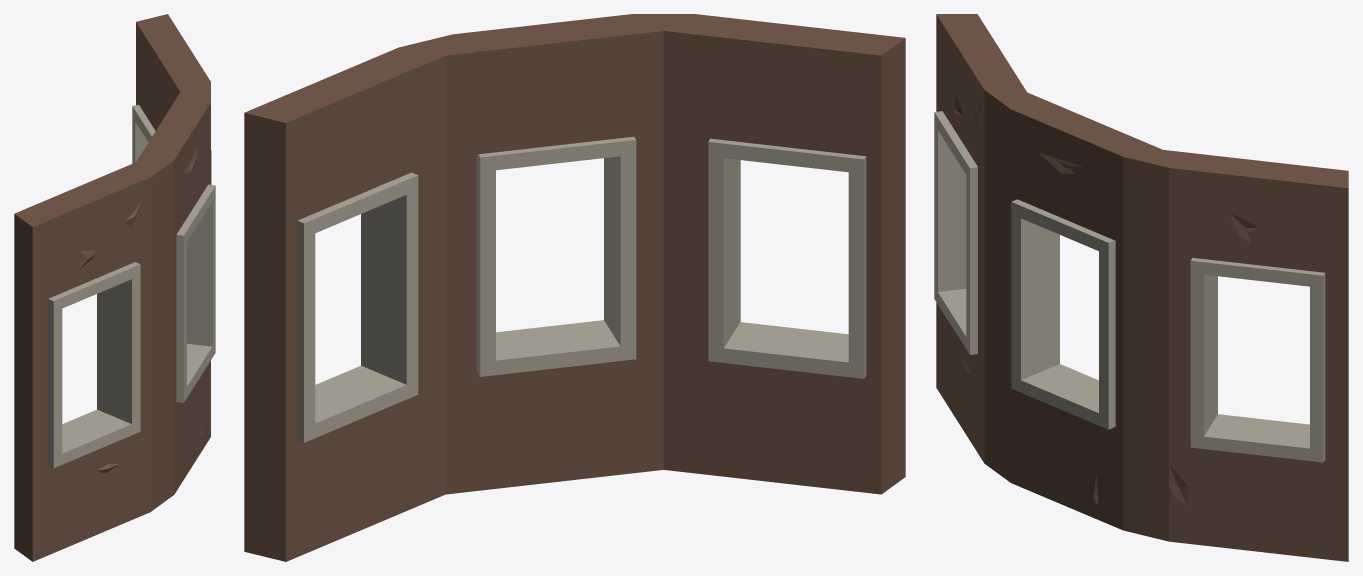
File: victorian_wall_curved_1_window_3.fbx
3 renders of one model, left to right at view 1: azimuth 30°, elevation 25°; view 2: azimuth 150°, elevation 25°; view 3: azimuth 270°, elevation 25°, orthographic. The views are drawn at different scales.
Visible parts, largest first — view 1: Cylinder.006; view 2: Cylinder.006; view 3: Cylinder.006.
Part boxes in pixels (bbox=[...]): Cylinder.006: bbox=[14, 14, 215, 561]; Cylinder.006: bbox=[244, 14, 905, 561]; Cylinder.006: bbox=[934, 14, 1348, 561].
Bounding box in the file's own units: 300 × 300 × 301.
